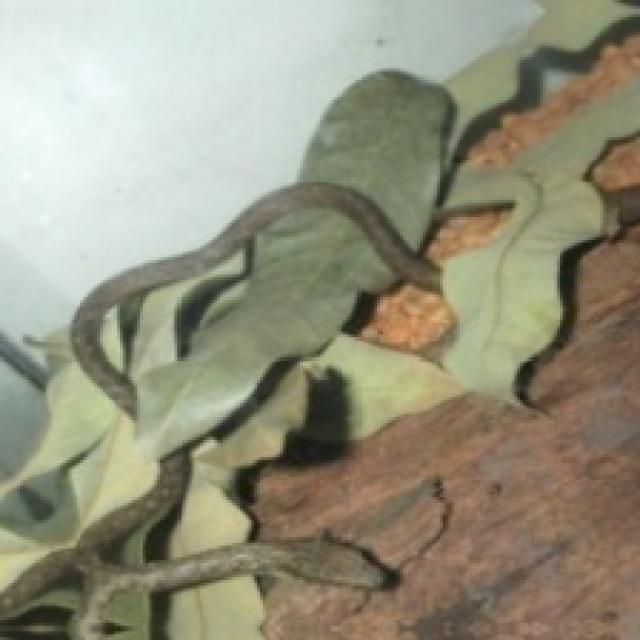philippine whip snake: (71, 180, 440, 414), (71, 183, 437, 414), (2, 449, 399, 639), (601, 185, 640, 238)
